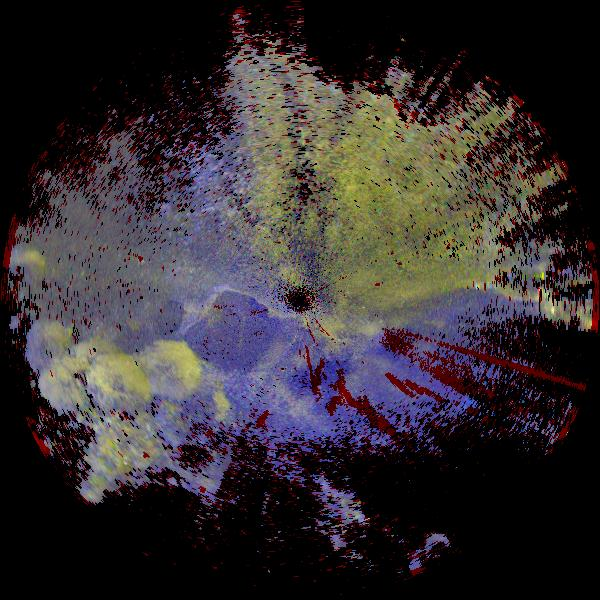roost: (123, 324, 216, 417), (72, 333, 165, 426), (29, 348, 101, 420), (14, 309, 83, 378)
